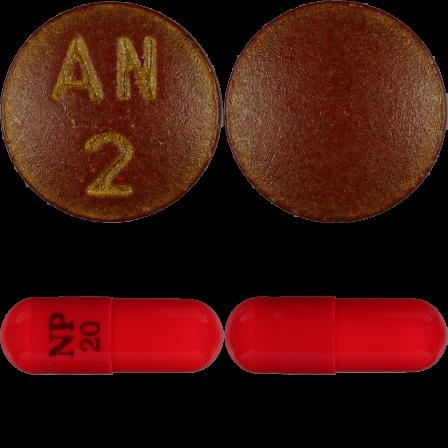61919-184: (0, 0, 224, 224)
